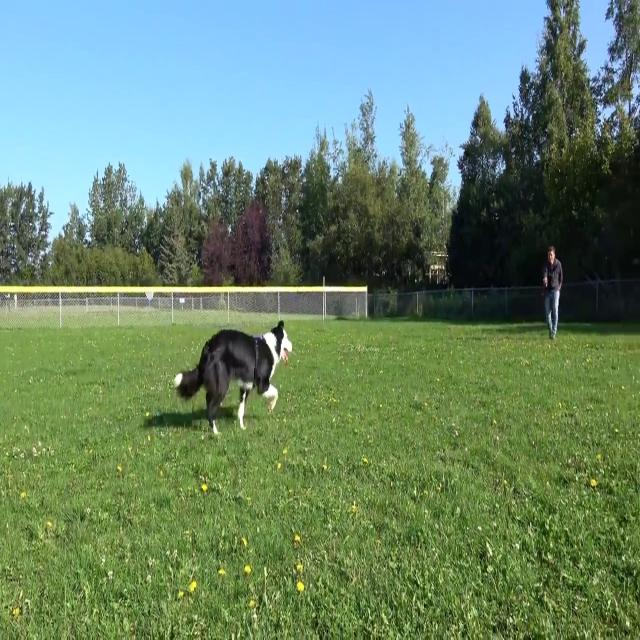Dog: (172, 316, 293, 439)
